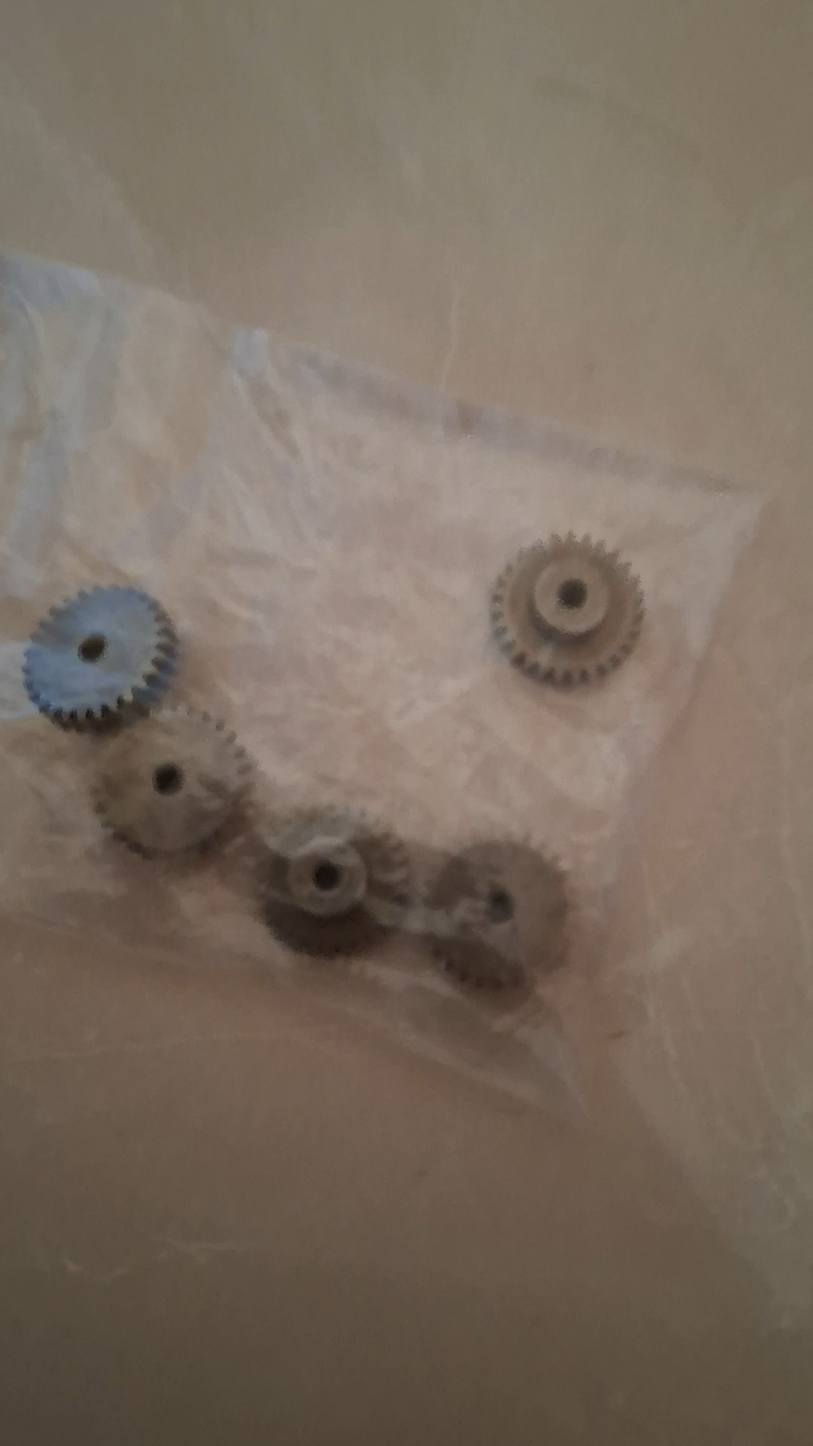spur gear: (491, 533, 644, 687), (93, 709, 250, 856), (257, 808, 410, 957), (25, 586, 177, 729), (426, 840, 567, 990)
